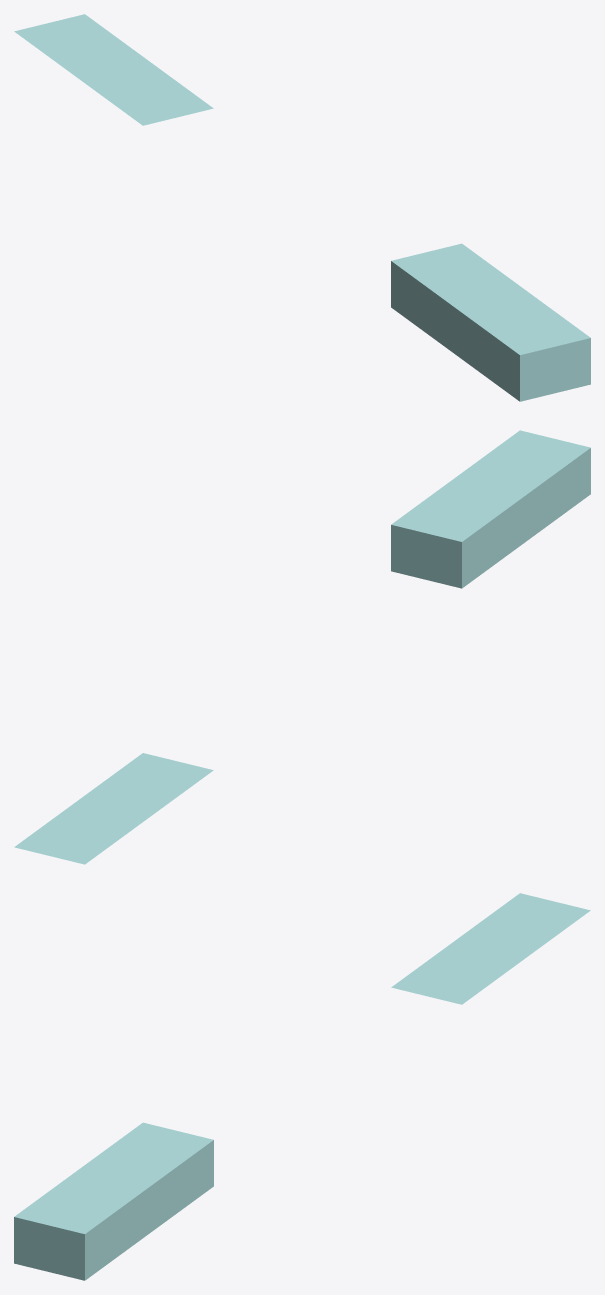
Rendered from Ring_01_Inner_Channel_01.fbx.
The picture shows the model from 3 angles, top to bottom: view 1: azimuth 30°, elevation 25°; view 2: azimuth 150°, elevation 25°; view 3: azimuth 330°, elevation 25°; orthographic projection.
Parts seen in each view (by area): view 1: Ring_01_Inner_Channel_01, Ring_01_Inner_Floor_01; view 2: Ring_01_Inner_Channel_01, Ring_01_Inner_Floor_01; view 3: Ring_01_Inner_Channel_01, Ring_01_Inner_Floor_01.
Part boxes in pixels (x1,y1,x2,y2): Ring_01_Inner_Channel_01: (391, 243, 590, 401); Ring_01_Inner_Floor_01: (14, 14, 213, 125); Ring_01_Inner_Channel_01: (391, 430, 590, 588); Ring_01_Inner_Floor_01: (14, 753, 213, 864); Ring_01_Inner_Channel_01: (14, 1122, 213, 1280); Ring_01_Inner_Floor_01: (391, 893, 590, 1004).
Bounding box in the file's own units: 12.68 × 7.96 × 157.
